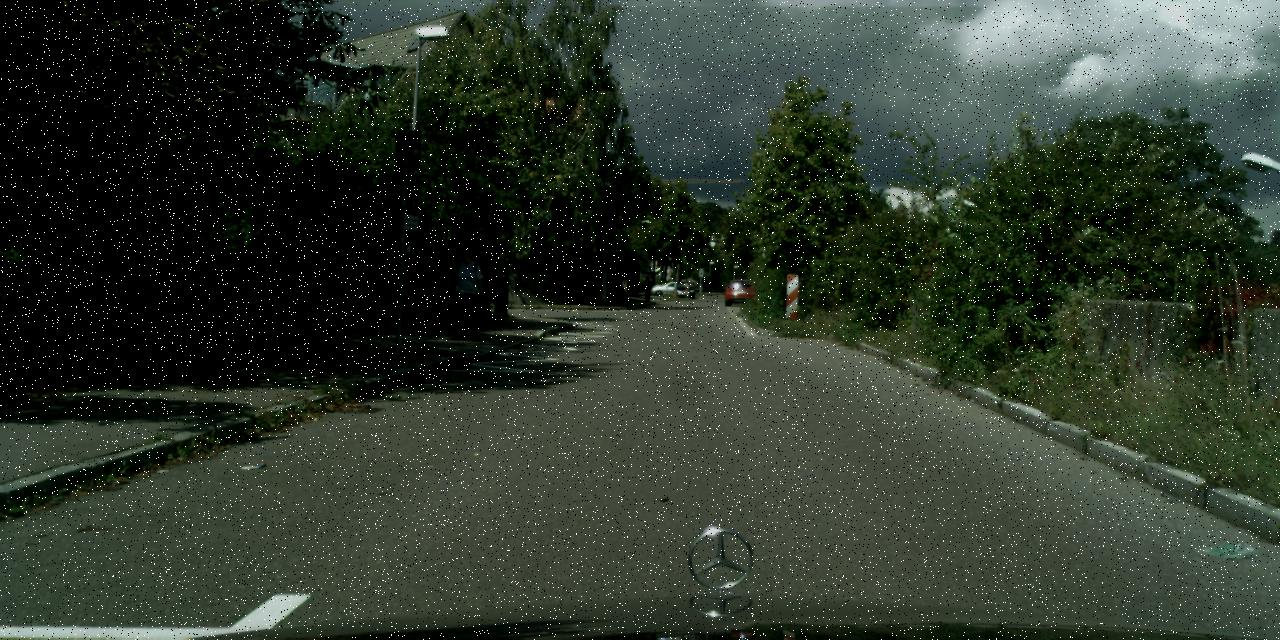ped: (447, 246, 485, 338), (641, 276, 651, 301)
